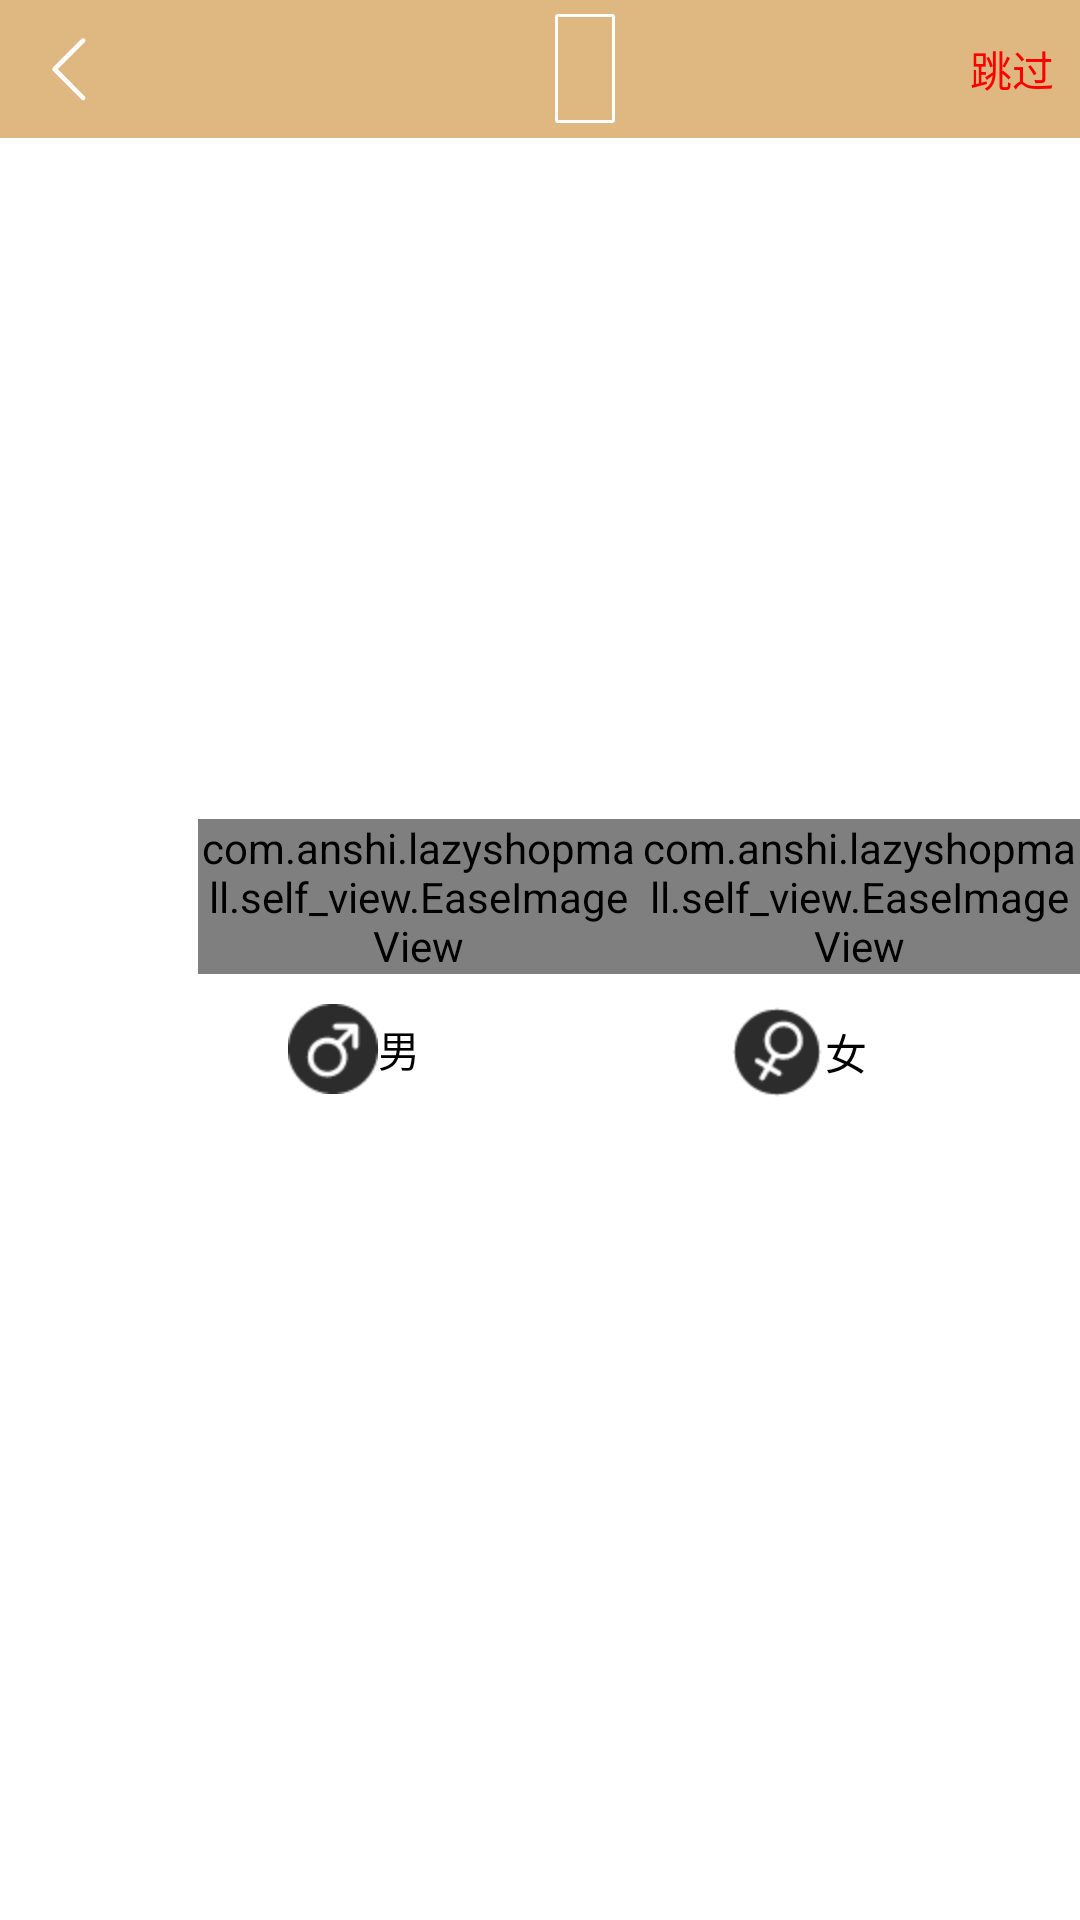

Screen size 1080px×1920px. Icon name, then its box in pixels as bbox=[x1, y1, x2, y2]:
back sting: bbox=[52, 38, 86, 101]
